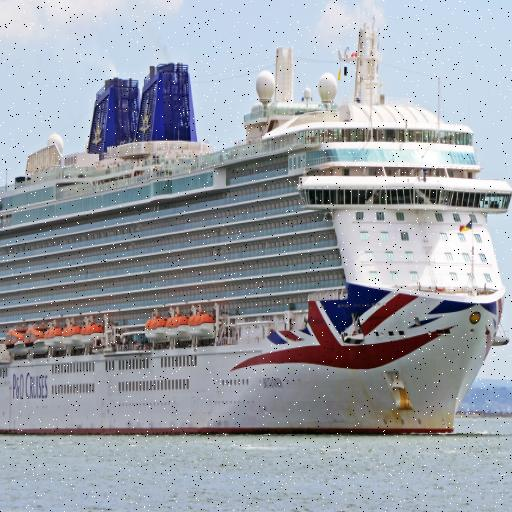cruises: (1, 8, 512, 453)
